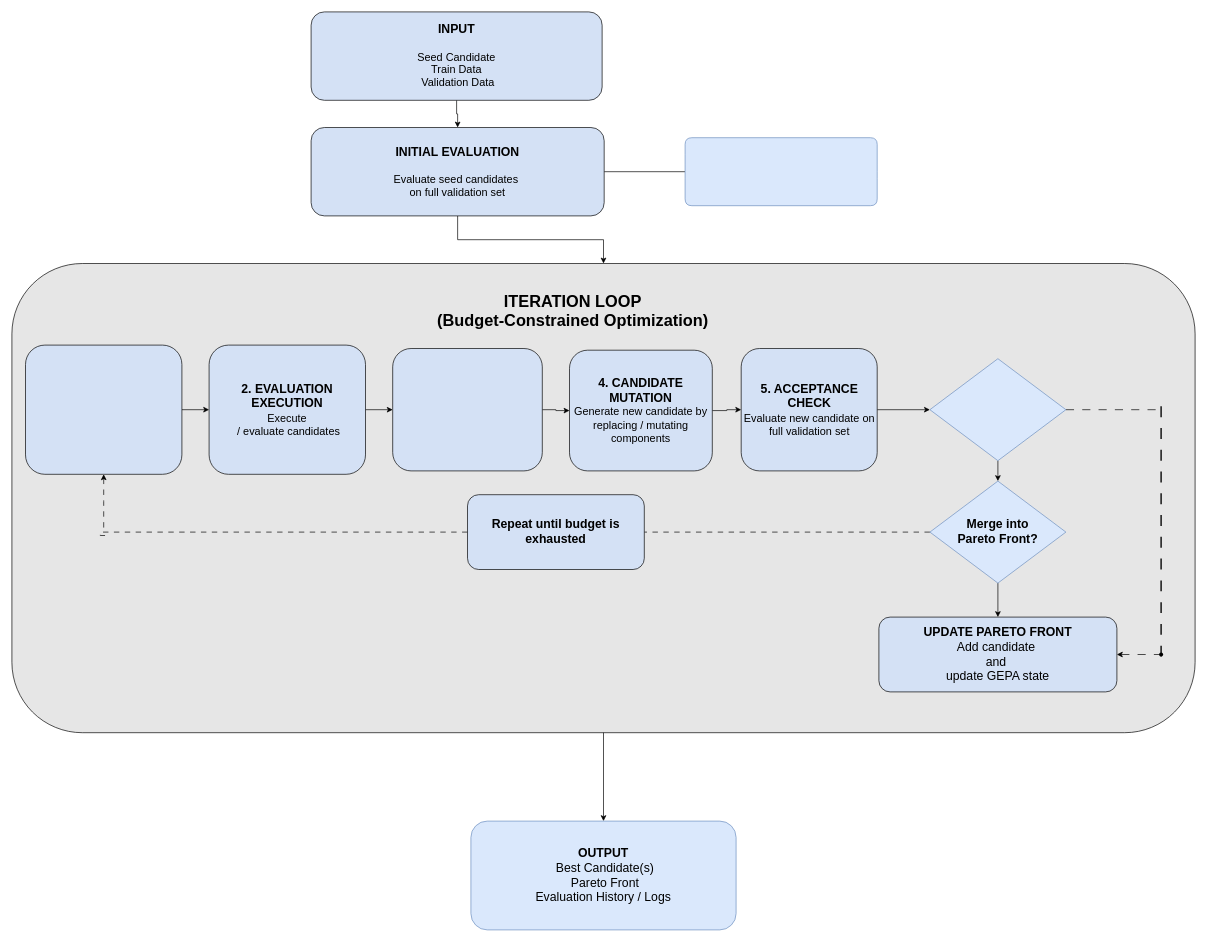
Image size: 1207x947. Some labels were removed from this diagram. Each missing label, with the centre of its shape:
"1. CANDIDATE SELECTION Select candidates from Pareto Front" belongs at point (103, 409).
"3. ANALYSIS & PROPOSAL Reflect on results and propose improvements (LLM)" belongs at point (467, 409).
"Accept candidate?" belongs at point (997, 409).
"GEPA State (Pareto Front, History, Budget, Configuration)" belongs at point (780, 171).
